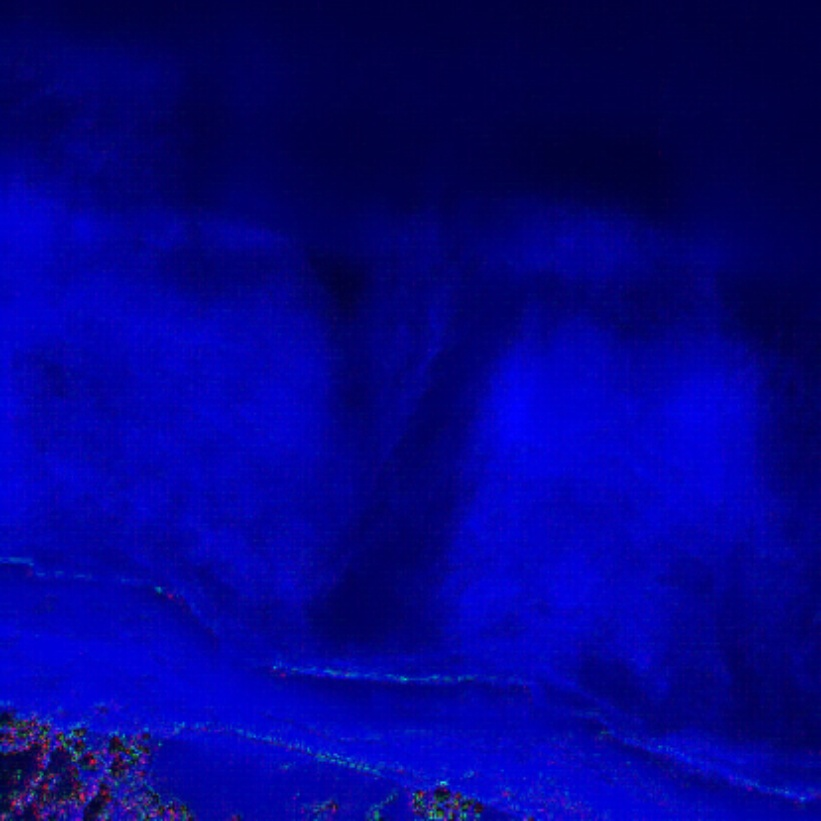rip_current: (234, 178, 552, 660)
